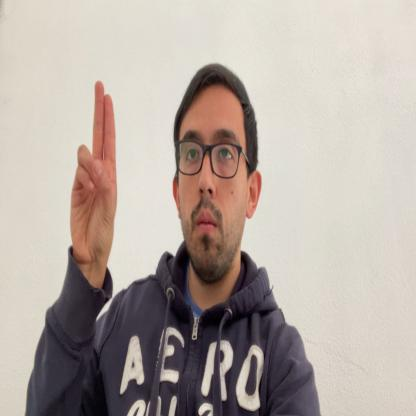U: (70, 81, 116, 269)
